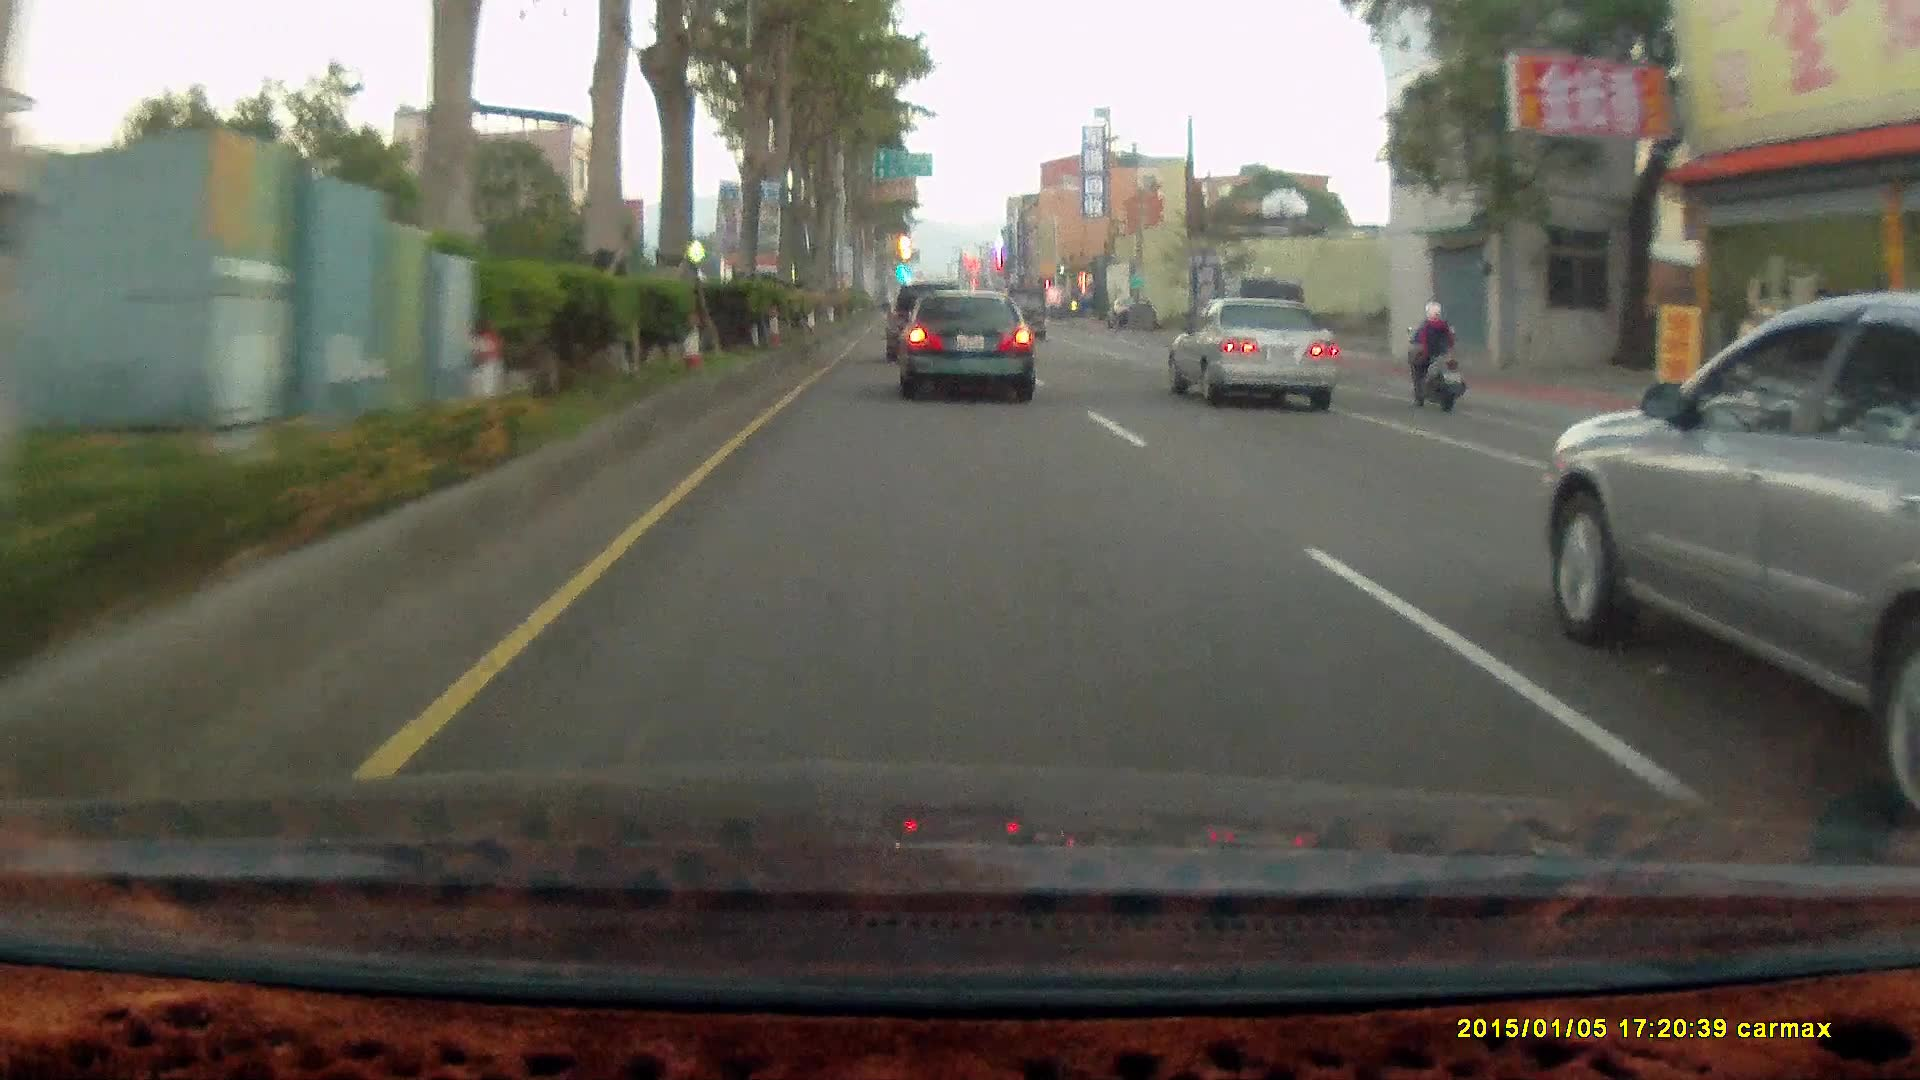rider: (1393, 291, 1474, 420), (1402, 296, 1467, 411)
vehicle: (1539, 298, 1920, 824), (1165, 295, 1340, 412), (1175, 300, 1340, 406), (897, 291, 1037, 403), (898, 289, 1036, 400), (886, 281, 973, 364), (1216, 280, 1304, 359), (882, 281, 964, 361), (1000, 286, 1047, 341)
